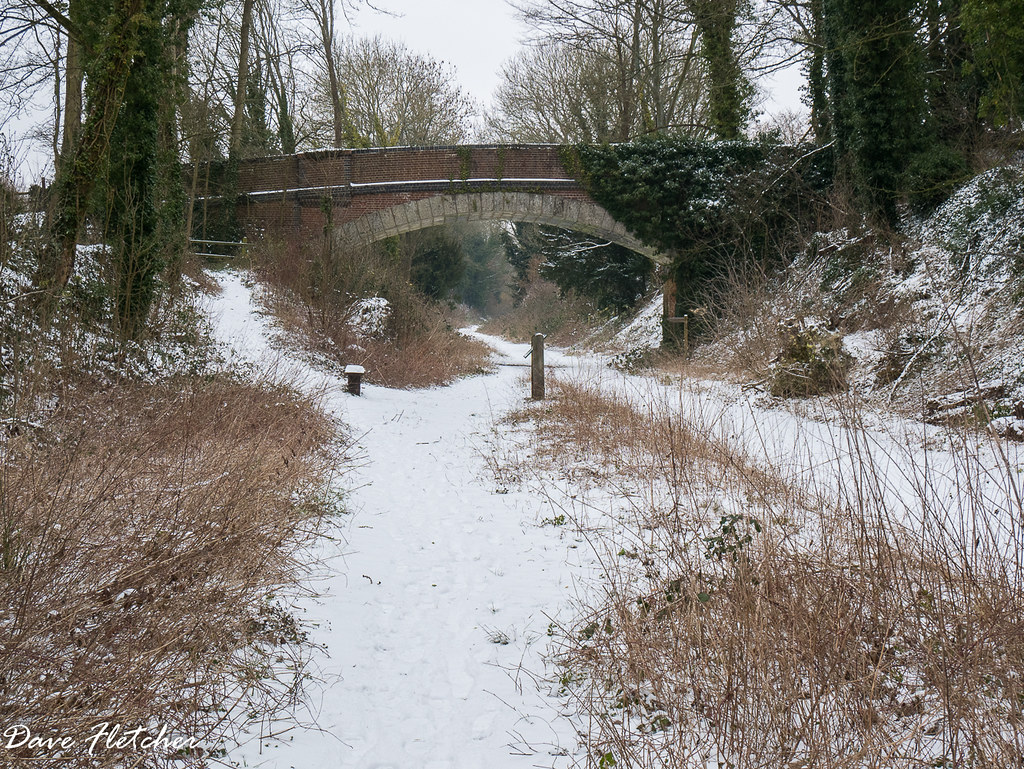bridge: (188, 143, 796, 252)
